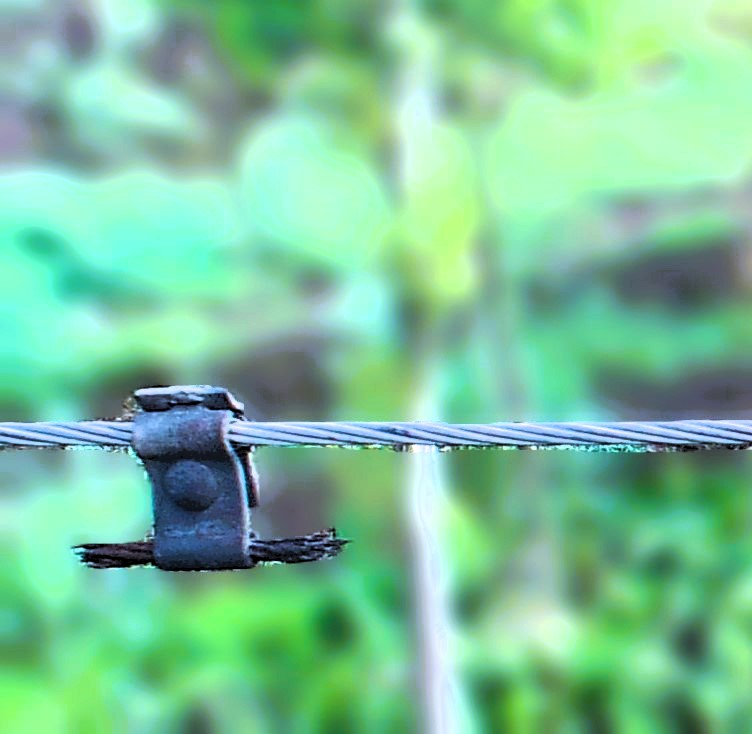Damage of shockproof hammer: (63, 355, 356, 587)
